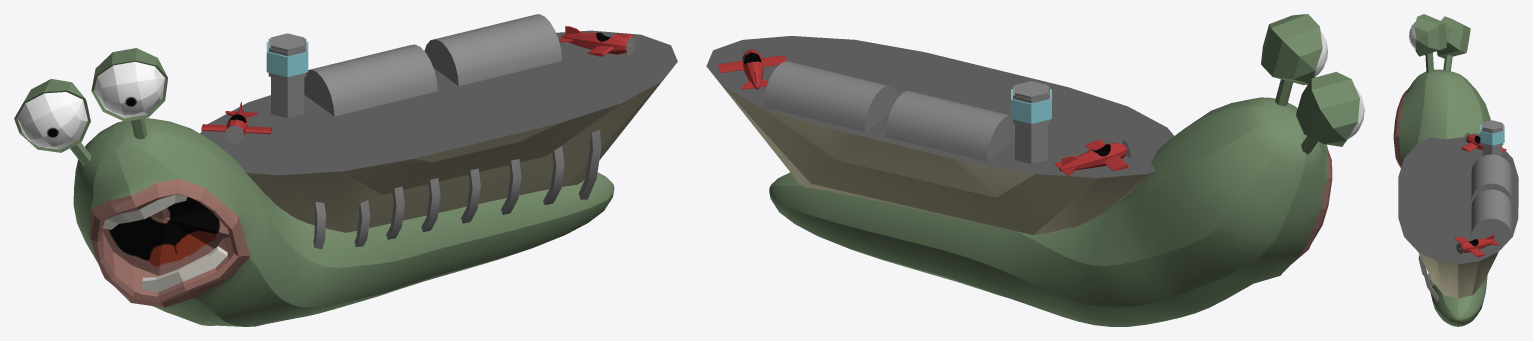
File: newCarrierBro.fbx
3 renders of one model, left to right at view 1: azimuth 30°, elevation 25°; view 2: azimuth 150°, elevation 25°; view 3: azimuth 270°, elevation 25°, orthographic. The views are drawn at different scales.
Parts seen in each view (by area): view 1: polySurface33; view 2: polySurface33; view 3: polySurface33.
Boxes of the visible parts, x1=… form: polySurface33: x1=14, y1=14, x2=677, y2=326; polySurface33: x1=706, y1=14, x2=1364, y2=326; polySurface33: x1=1393, y1=14, x2=1518, y2=326.
Bounding box in the file's own units: 42.09 × 19.79 × 12.01.
